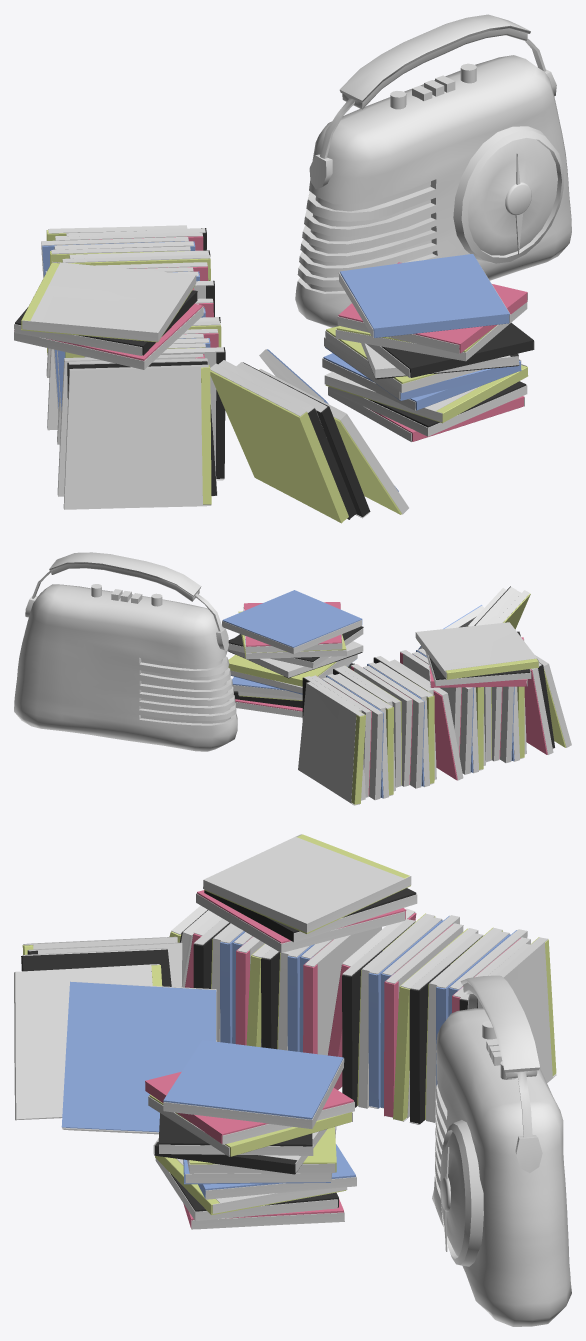
File: chambre test biblio m3.fbx
3 views of the same model, one above another, from view 1: azimuth 30°, elevation 25°; view 2: azimuth 150°, elevation 25°; view 3: azimuth 270°, elevation 25° (orthographic). The views are drawn at different scales.
Parts seen in each view (by area): view 1: Radio_Vintage.002|Radio_Vintage.001|Dupli|, CD_Pochette_Fermee_D.098|Dessus_pochette.004|Dupli|, CD_Pochette_Fermee_C.076|CD_Pochette_Fermee_C.103|Dupli|1, CD_Pochette_Fermee_D.104|Dessus_pochette.004|Dupli|, CD_Pochette_Fermee_D.094|CD_Pochette_Fermee_D.123|Dupli|1, CD_Pochette_Fermee_A.080|CD_Pochette_Fermee_A.107|Dupli|, CD_Pochette_Fermee_B.056|Dessus_pochette.002|Dupli|, CD_Pochette_Fermee_A.081|Dessus_pochette.001|Dupli|1, CD_Pochette_Fermee_B.049|CD_Pochette_Fermee_B.069|Dupli|1, CD_Pochette_Fermee_A.082|CD_Pochette_Fermee_A.107|Dupli|, CD_Pochette_Fermee_D.092|Dessus_pochette.004|Dupli|, CD_Pochette_Fermee_D.095|CD_Pochette_Fermee_D.123|Dupli|1 (+35 smaller); view 2: Radio_Vintage.002|Radio_Vintage.001|Dupli|, CD_Pochette_Fermee_D.103|Dessus_pochette.004|Dupli|, CD_Pochette_Fermee_C.076|CD_Pochette_Fermee_C.103|Dupli|1, CD_Pochette_Fermee_D.104|Dessus_pochette.004|Dupli|, CD_Pochette_Fermee_C.084|Dessus_pochette.003|Dupli|, CD_Pochette_Fermee_C.082|Dessus_pochette.003|Dupli|, CD_Pochette_Fermee_B.053|Dessus_pochette.002|Dupli|, CD_Pochette_Fermee_B.054|CD_Pochette_Fermee_B.069|Dupli|1, CD_Pochette_Fermee_C.080|Dessus_pochette.003|Dupli|, CD_Pochette_Fermee_B.051|CD_Pochette_Fermee_B.069|Dupli|1, CD_Pochette_Fermee_D.093|CD_Pochette_Fermee_D.123|Dupli|1, CD_Pochette_Fermee_A.071|Dessus_pochette.001|Dupli|1 (+36 smaller); view 3: Radio_Vintage.002|Radio_Vintage.001|Dupli|, CD_Pochette_Fermee_C.077|CD_Pochette_Fermee_C.103|Dupli|1, CD_Pochette_Fermee_D.104|Dessus_pochette.004|Dupli|, CD_Pochette_Fermee_C.076|CD_Pochette_Fermee_C.103|Dupli|1, CD_Pochette_Fermee_D.095|Dessus_pochette.004|Dupli|, CD_Pochette_Fermee_D.103|Dessus_pochette.004|Dupli|, CD_Pochette_Fermee_B.052|Dessus_pochette.002|Dupli|, CD_Pochette_Fermee_A.082|CD_Pochette_Fermee_A.107|Dupli|, CD_Pochette_Fermee_A.088|CD_Pochette_Fermee_A.107|Dupli|, CD_Pochette_Fermee_A.087|CD_Pochette_Fermee_A.107|Dupli|, CD_Pochette_Fermee_B.056|Dessus_pochette.002|Dupli|, CD_Pochette_Fermee_B.049|CD_Pochette_Fermee_B.069|Dupli|1 (+50 smaller).
Part boxes in pixels (bbox=[...]): Radio_Vintage.002|Radio_Vintage.001|Dupli|: bbox=[295, 14, 571, 327]; CD_Pochette_Fermee_D.098|Dessus_pochette.004|Dupli|: bbox=[63, 364, 211, 509]; CD_Pochette_Fermee_C.076|CD_Pochette_Fermee_C.103|Dupli|1: bbox=[340, 254, 509, 337]; CD_Pochette_Fermee_D.104|Dessus_pochette.004|Dupli|: bbox=[22, 261, 196, 341]; CD_Pochette_Fermee_D.094|CD_Pochette_Fermee_D.123|Dupli|1: bbox=[210, 370, 348, 523]; CD_Pochette_Fermee_A.080|CD_Pochette_Fermee_A.107|Dupli|: bbox=[381, 322, 533, 377]; CD_Pochette_Fermee_B.056|Dessus_pochette.002|Dupli|: bbox=[14, 306, 203, 369]; CD_Pochette_Fermee_A.081|Dessus_pochette.001|Dupli|1: bbox=[329, 385, 527, 436]; CD_Pochette_Fermee_B.049|CD_Pochette_Fermee_B.069|Dupli|1: bbox=[338, 262, 527, 353]; CD_Pochette_Fermee_A.082|CD_Pochette_Fermee_A.107|Dupli|: bbox=[243, 362, 370, 517]; CD_Pochette_Fermee_D.092|Dessus_pochette.004|Dupli|: bbox=[335, 302, 527, 361]; CD_Pochette_Fermee_D.095|CD_Pochette_Fermee_D.123|Dupli|1: bbox=[259, 369, 401, 514]; Radio_Vintage.002|Radio_Vintage.001|Dupli|: bbox=[14, 552, 237, 751]; CD_Pochette_Fermee_D.103|Dessus_pochette.004|Dupli|: bbox=[298, 682, 364, 805]; CD_Pochette_Fermee_C.076|CD_Pochette_Fermee_C.103|Dupli|1: bbox=[222, 590, 362, 647]; CD_Pochette_Fermee_D.104|Dessus_pochette.004|Dupli|: bbox=[415, 622, 538, 678]; CD_Pochette_Fermee_C.084|Dessus_pochette.003|Dupli|: bbox=[322, 677, 383, 800]; CD_Pochette_Fermee_C.082|Dessus_pochette.003|Dupli|: bbox=[363, 665, 424, 788]; CD_Pochette_Fermee_B.053|Dessus_pochette.002|Dupli|: bbox=[351, 664, 412, 786]; CD_Pochette_Fermee_B.054|CD_Pochette_Fermee_B.069|Dupli|1: bbox=[433, 690, 457, 780]; CD_Pochette_Fermee_C.080|Dessus_pochette.003|Dupli|: bbox=[412, 651, 473, 774]; CD_Pochette_Fermee_B.051|CD_Pochette_Fermee_B.069|Dupli|1: bbox=[524, 669, 547, 754]; CD_Pochette_Fermee_D.093|CD_Pochette_Fermee_D.123|Dupli|1: bbox=[228, 654, 336, 686]; CD_Pochette_Fermee_A.071|Dessus_pochette.001|Dupli|1: bbox=[227, 641, 363, 677]; Radio_Vintage.002|Radio_Vintage.001|Dupli|: bbox=[432, 975, 571, 1326]; CD_Pochette_Fermee_C.077|CD_Pochette_Fermee_C.103|Dupli|1: bbox=[61, 981, 216, 1132]; CD_Pochette_Fermee_D.104|Dessus_pochette.004|Dupli|: bbox=[203, 834, 411, 932]; CD_Pochette_Fermee_C.076|CD_Pochette_Fermee_C.103|Dupli|1: bbox=[163, 1040, 343, 1119]; CD_Pochette_Fermee_D.095|Dessus_pochette.004|Dupli|: bbox=[14, 964, 159, 1120]; CD_Pochette_Fermee_D.103|Dessus_pochette.004|Dupli|: bbox=[478, 937, 556, 1082]; CD_Pochette_Fermee_B.052|Dessus_pochette.002|Dupli|: bbox=[304, 927, 381, 1055]; CD_Pochette_Fermee_A.082|CD_Pochette_Fermee_A.107|Dupli|: bbox=[21, 949, 171, 986]; CD_Pochette_Fermee_A.088|CD_Pochette_Fermee_A.107|Dupli|: bbox=[409, 936, 482, 1124]; CD_Pochette_Fermee_A.087|CD_Pochette_Fermee_A.107|Dupli|: bbox=[342, 922, 414, 1107]; CD_Pochette_Fermee_B.056|Dessus_pochette.002|Dupli|: bbox=[196, 893, 405, 952]; CD_Pochette_Fermee_B.049|CD_Pochette_Fermee_B.069|Dupli|1: bbox=[145, 1071, 353, 1143].
Bounding box in the file's own units: 70.34 × 25.74 × 49.49.
